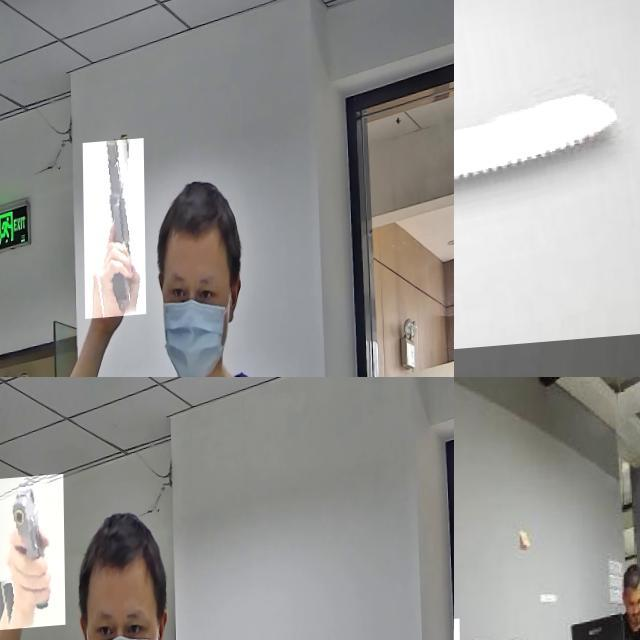-: (454, 0, 640, 369)
gun-knife-thesis - v11 Yolov5 augmented: (82, 144, 144, 324), (0, 475, 64, 631)
